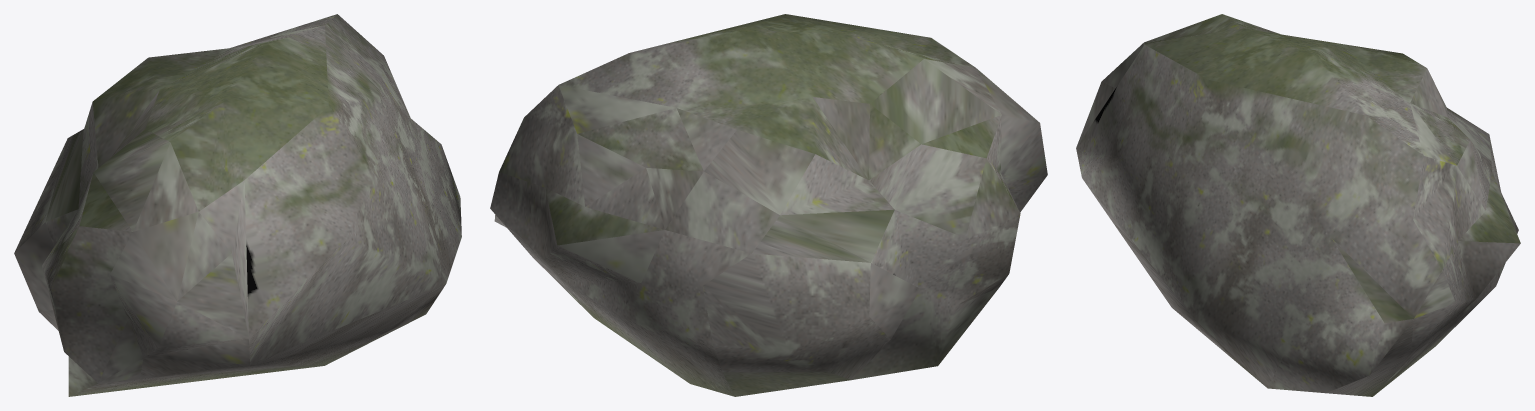
Rendered from boulder_400_LOD2.fbx.
The picture shows the model from 3 angles, left to right: view 1: azimuth 30°, elevation 25°; view 2: azimuth 150°, elevation 25°; view 3: azimuth 270°, elevation 25°; orthographic projection. The views are drawn at different scales.
Parts seen in each view (by area): view 1: Boulder_400_LOD2; view 2: Boulder_400_LOD2; view 3: Boulder_400_LOD2.
Part boxes in pixels (x1=…): Boulder_400_LOD2: x1=14, y1=14, x2=461, y2=396; Boulder_400_LOD2: x1=490, y1=14, x2=1047, y2=396; Boulder_400_LOD2: x1=1076, y1=14, x2=1520, y2=396.
Size of the model in its own units: 3.76 by 2.37 by 3.2.
1 material, 1 textured.
